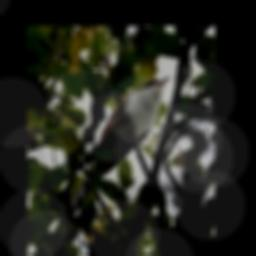Cuckoo: (69, 76, 169, 213)
